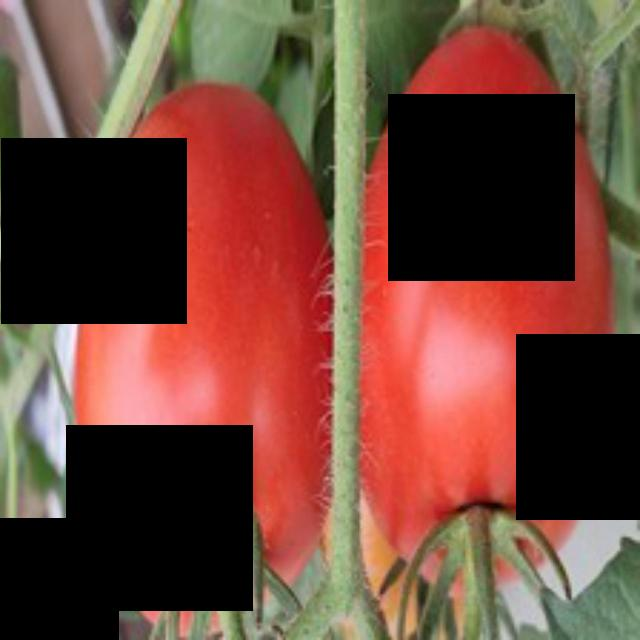tomato: (357, 11, 637, 637), (62, 86, 342, 636)
